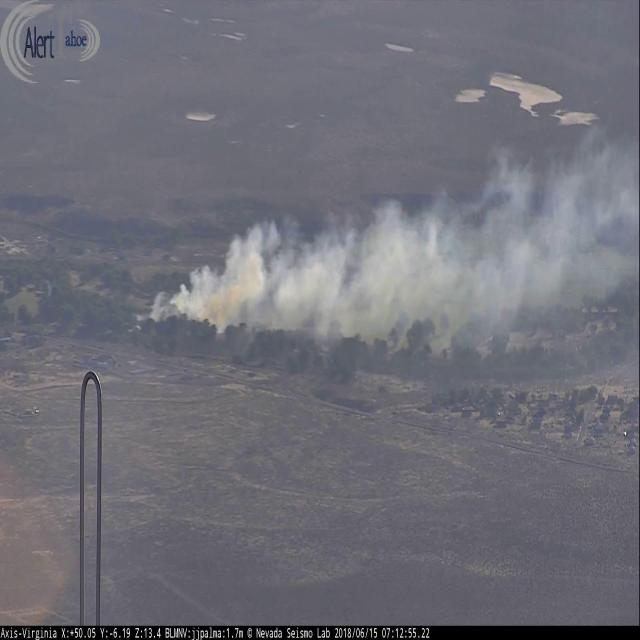smoke: (135, 118, 640, 342)
